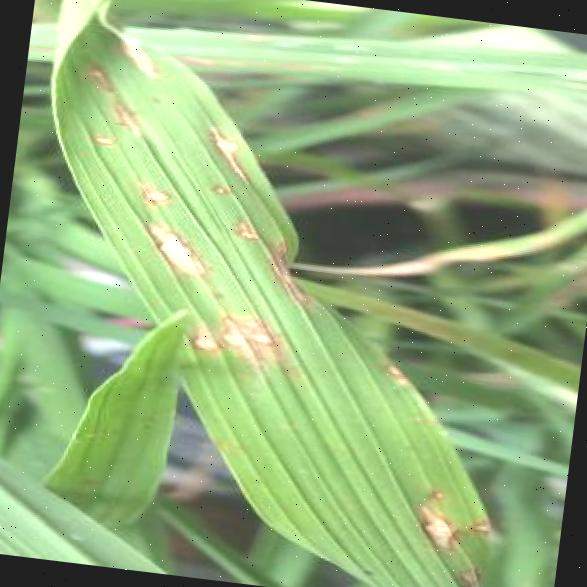Leaf_smut: (120, 204, 210, 282), (186, 108, 258, 185), (405, 478, 469, 552), (98, 22, 170, 77), (120, 161, 183, 222), (207, 191, 264, 252), (100, 84, 153, 138), (184, 161, 240, 212), (176, 311, 218, 370), (239, 309, 287, 357), (78, 116, 131, 159), (78, 50, 122, 92), (212, 310, 250, 352)
